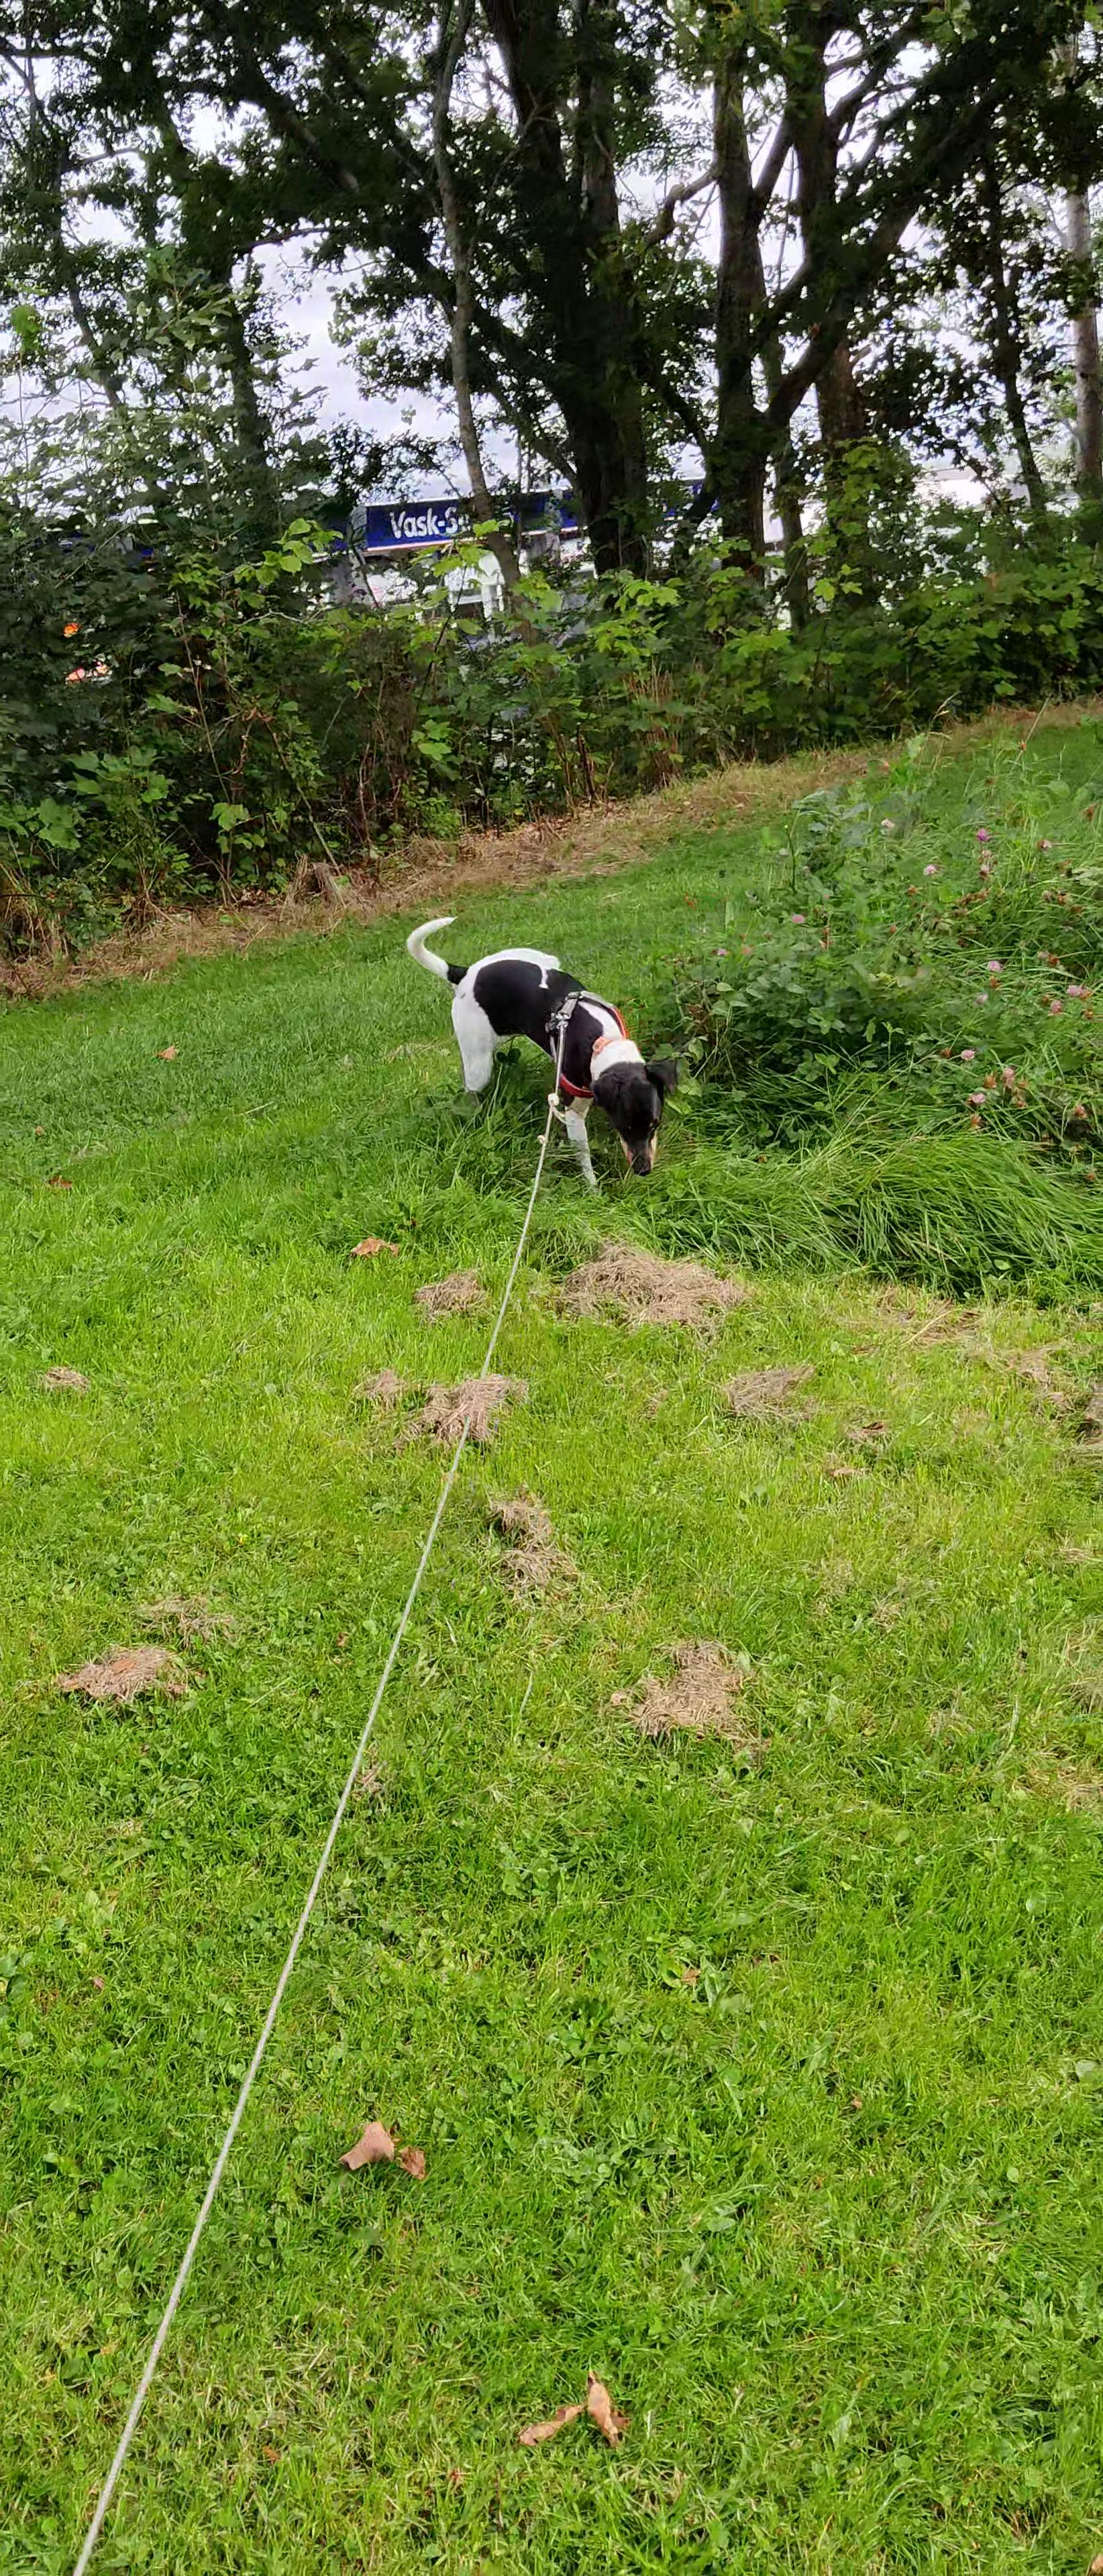Dog: (403, 908, 684, 1198)
